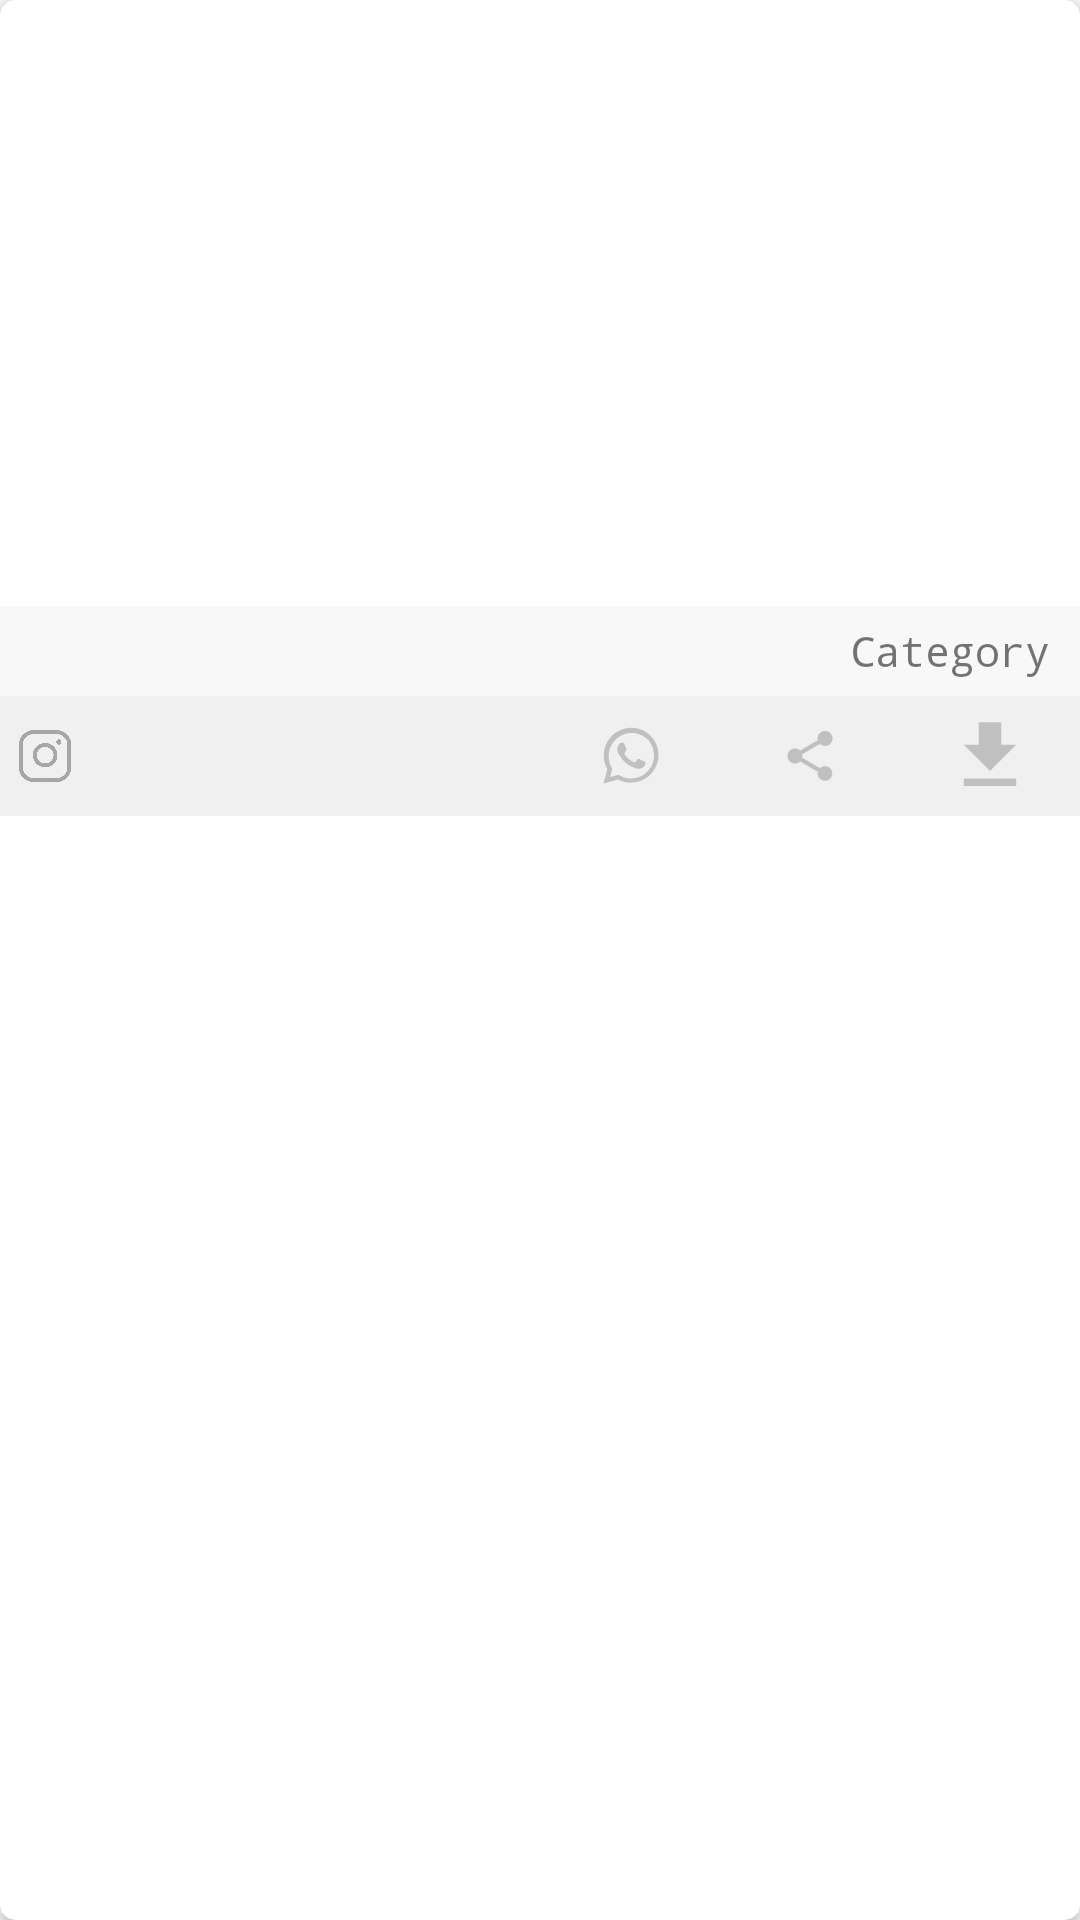

Icons on this 1080x1920 Android screen, each with the point to tap as (x,y):
file download: (990,754)
share: (810,756)
